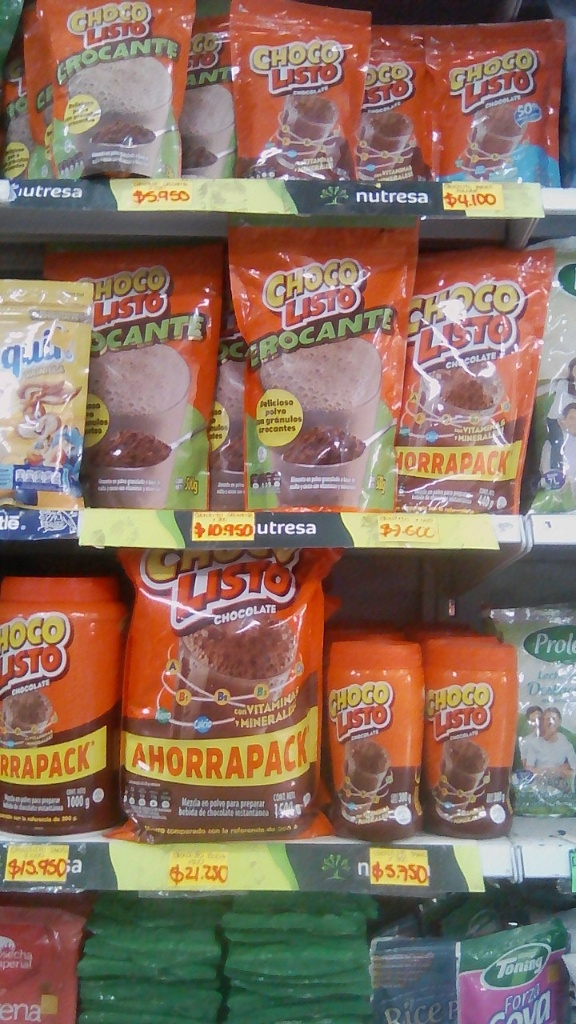COL0170102DYP25000: (24, 0, 185, 180)
COL0170102DYP50000: (43, 237, 225, 508)
COL0170103DYP1,500: (123, 546, 329, 838)
COL0170103DYP20000: (239, 3, 367, 177)
COL0170103DYP40000: (403, 246, 555, 515)
COL0170103TRR00100: (2, 558, 122, 836)
COL0170103TRR30000: (332, 636, 424, 839)
COL0170104DYP20000: (424, 19, 568, 187)
COL0170306DYP20000: (2, 267, 98, 509)
